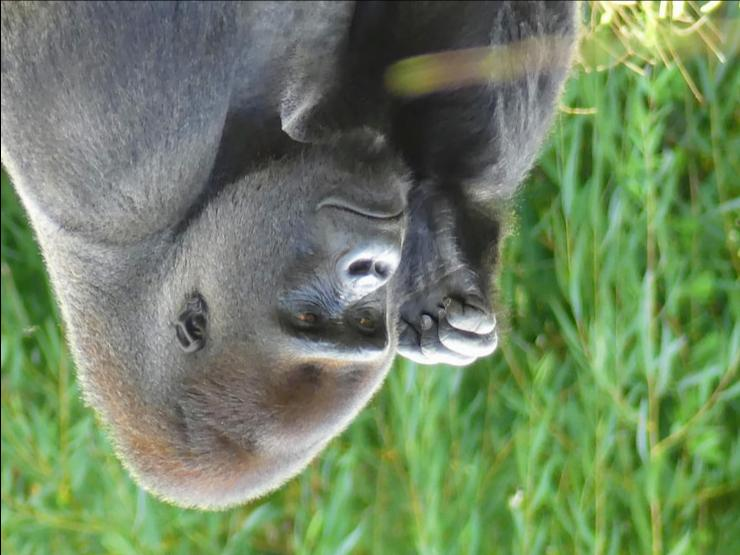gorille_Autres: (1, 0, 610, 552)
